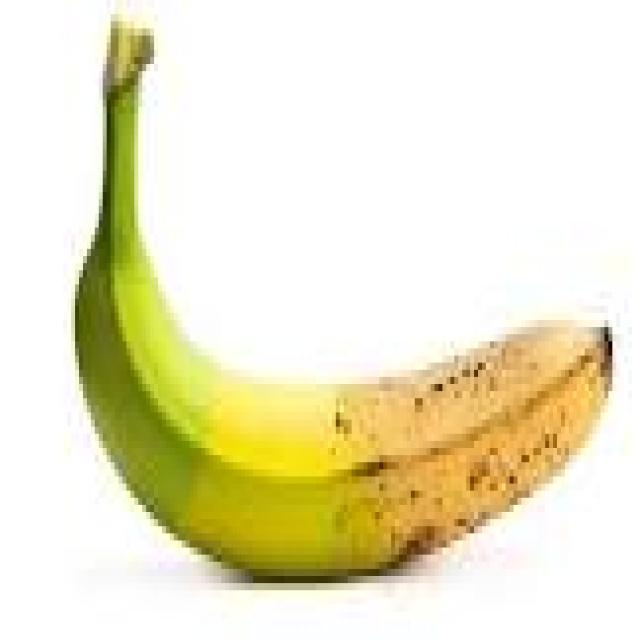banana: (76, 22, 612, 575)
